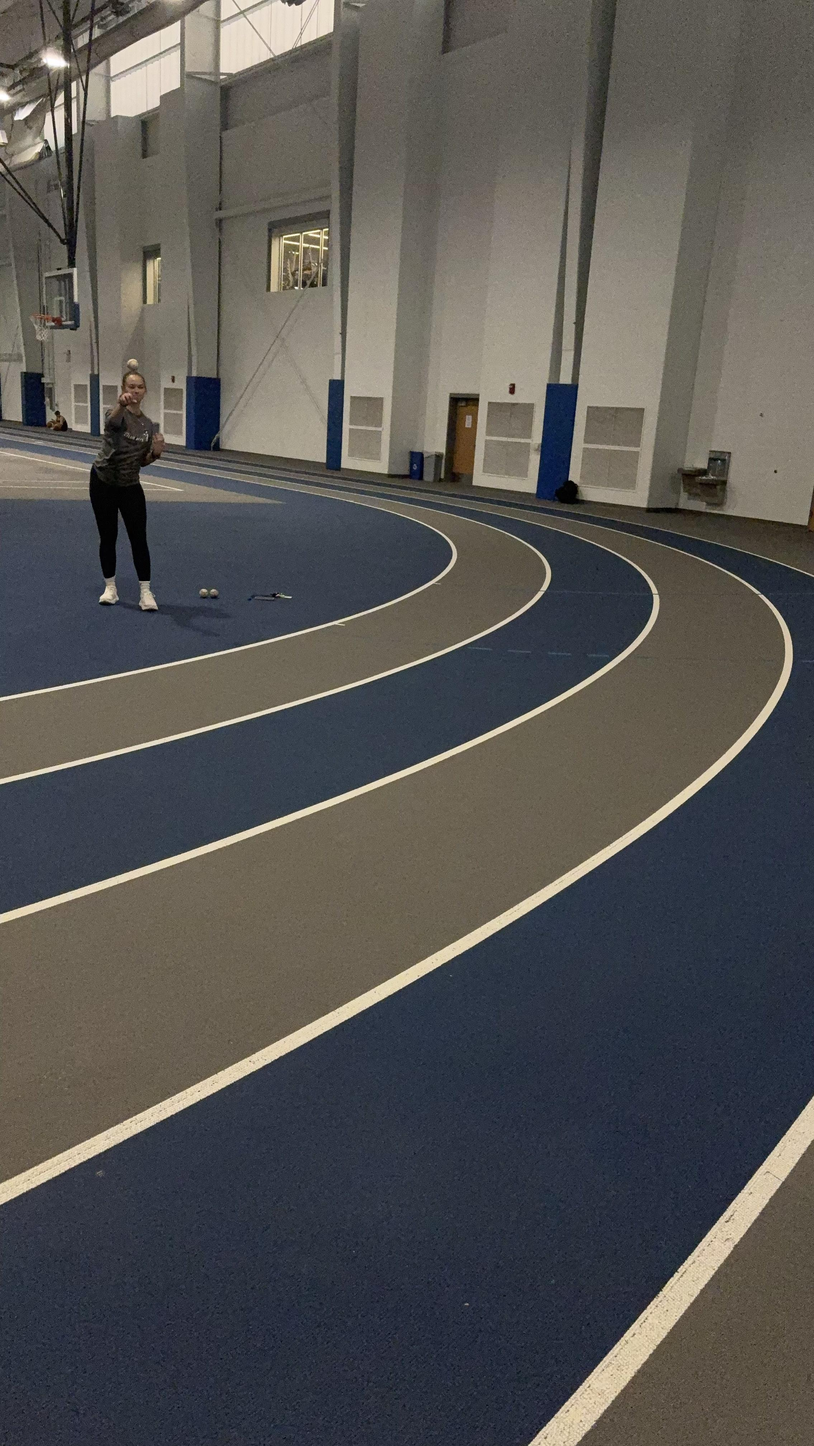Baseball: (124, 356, 141, 372)
